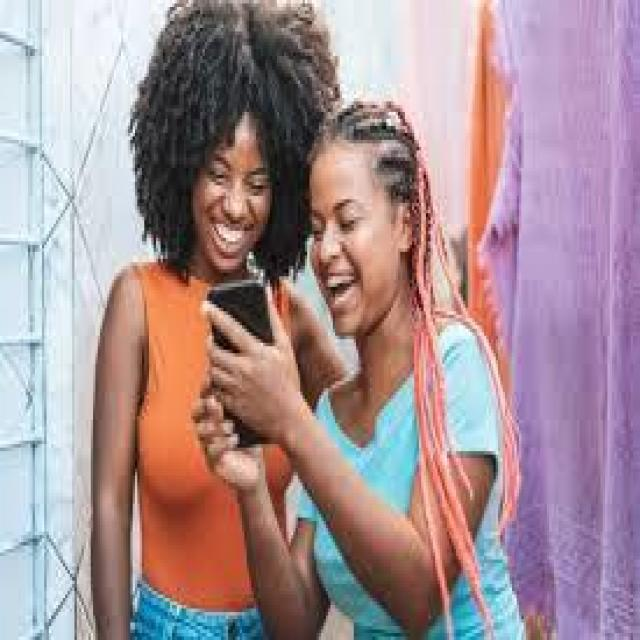person: (186, 73, 552, 633), (63, 0, 333, 619)
